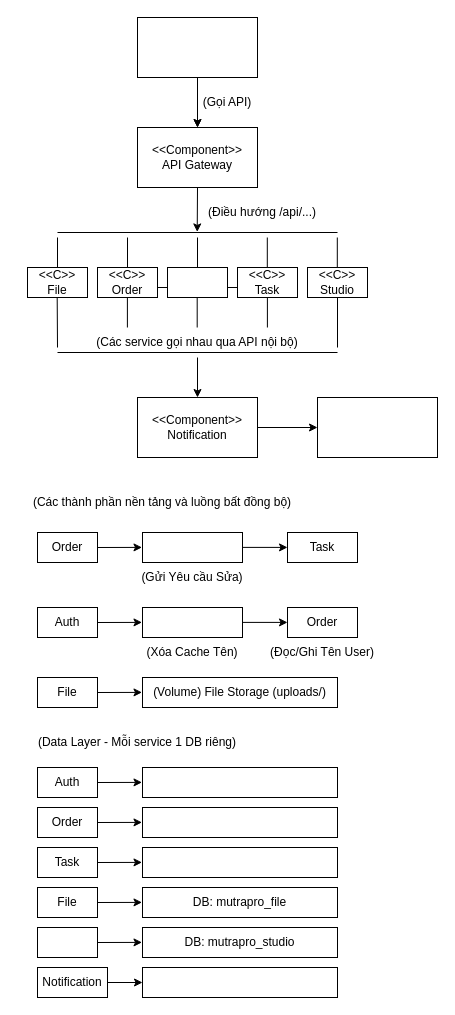
Some shapes in this 455 by 1015 pixel diagram are drawn without their labels. The box of each missing label's shape, as (x1, y1, x2, y2) in pixels:
(External) Firebase (FCM): (316, 396, 438, 458)
<<C>> Auth: (166, 266, 228, 298)
<<Component>> Web App (React): (136, 16, 258, 78)
DB: mutrapro_auth: (142, 766, 338, 798)
DB: mutrapro_notification: (142, 966, 338, 998)
DB: mutrapro_order: (142, 806, 338, 838)
mutrapro_task: (142, 846, 338, 878)
RabbitMQ (MQ): (142, 532, 242, 562)
Redis (Cache): (142, 606, 242, 638)
Studio: (36, 926, 98, 958)
